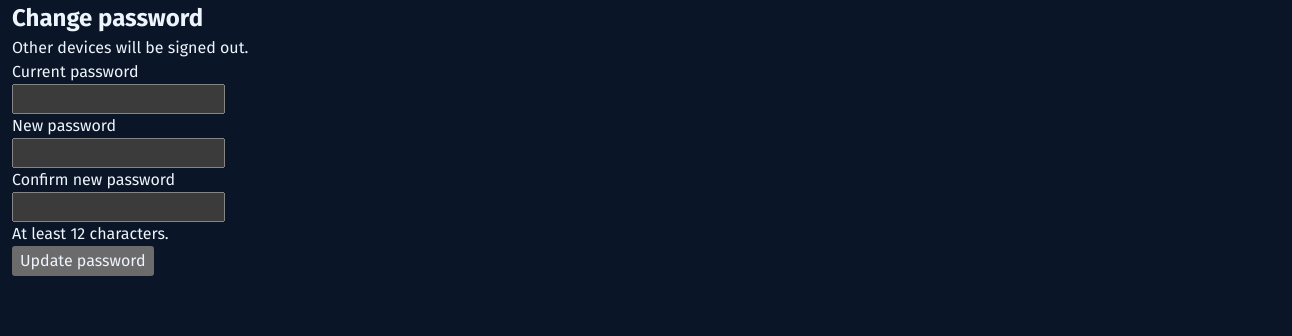
Test: ChangePassword › stays put and explains a wrong current password
In the password field labelled "Current password": (118, 99) [12,84,225,114], type "wrong"
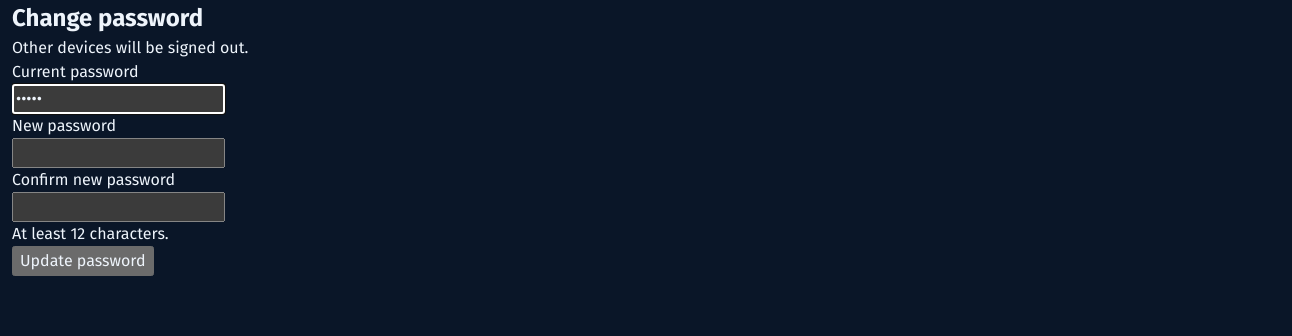
In the password field labelled "New password": (118, 153) [12,138,225,168], type "a-long-new-password"
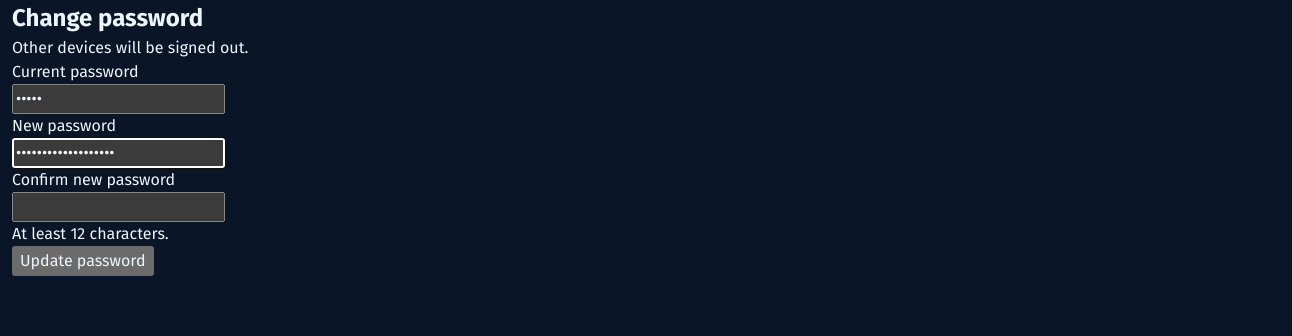
In the password field labelled "Confirm new password": (118, 207) [12,192,225,222], type "a-long-new-password"
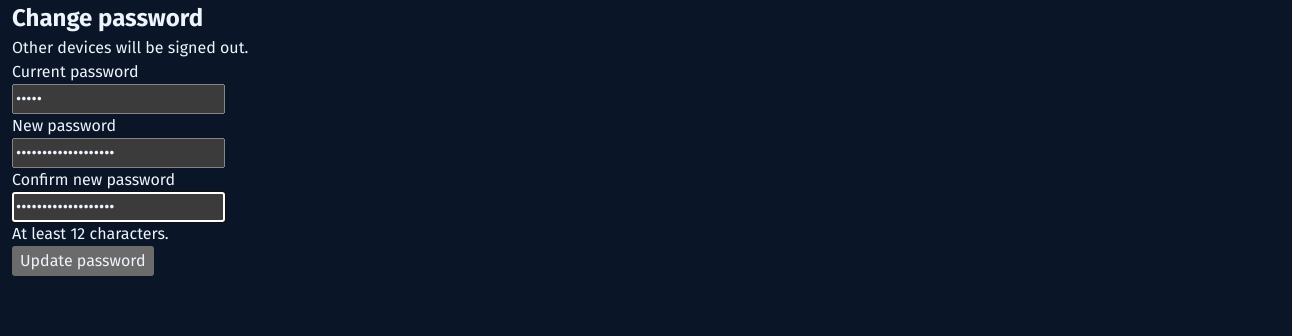
Click the button "Update password": (83, 261) [12,246,154,276]
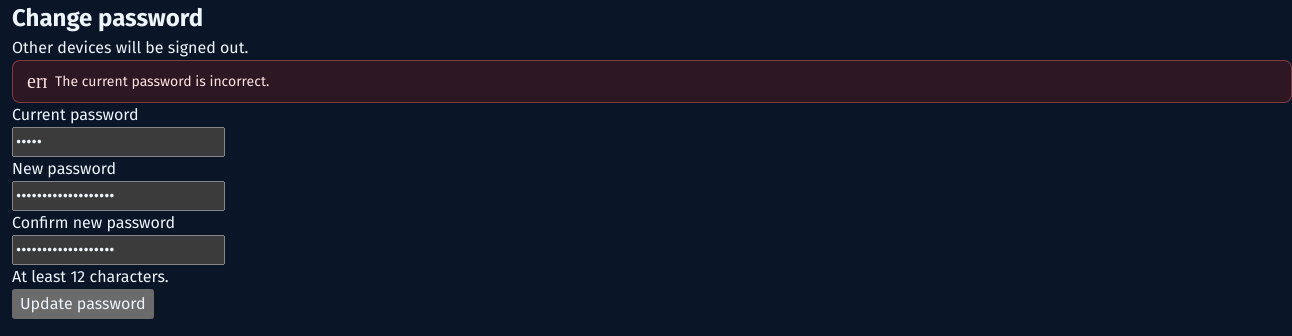
Result: the message shows "current password is incorrect" at [55,73,269,90]
